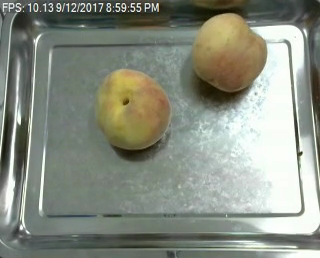Peach: (94, 68, 172, 150), (192, 12, 268, 93)
